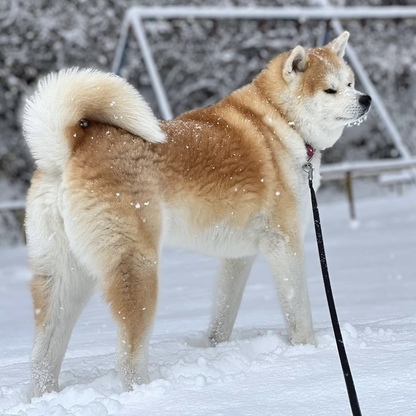akita: (16, 6, 380, 406)
